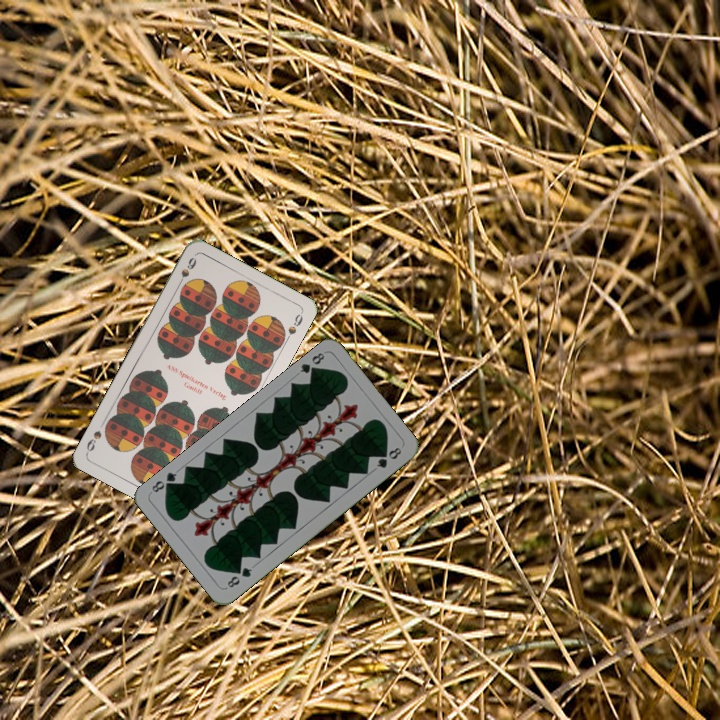G8: (296, 348, 327, 379), (223, 563, 255, 590)
S9: (173, 253, 199, 290)
